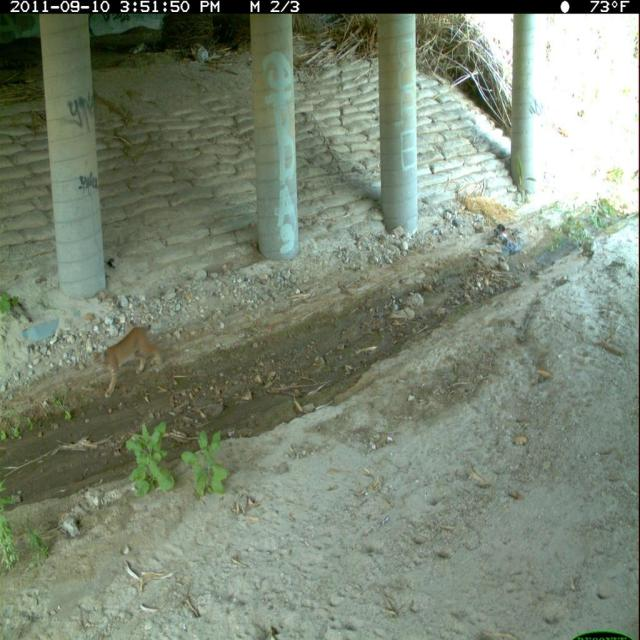bobcat: (88, 318, 168, 404)
